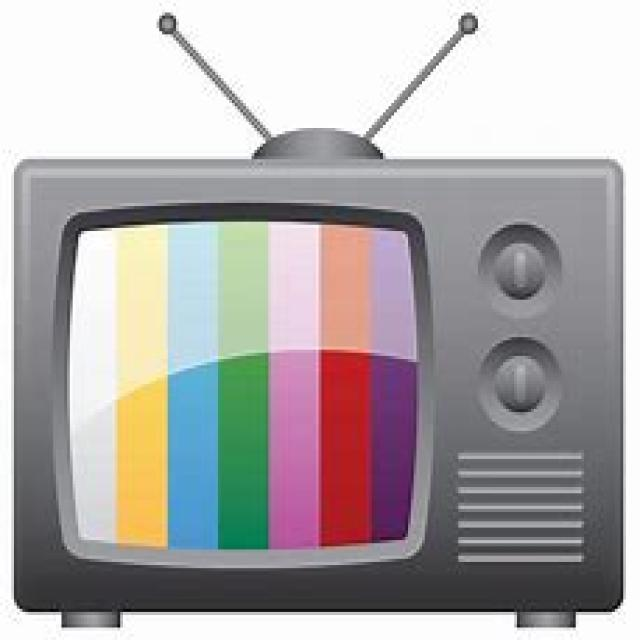tv: (11, 153, 623, 631)
